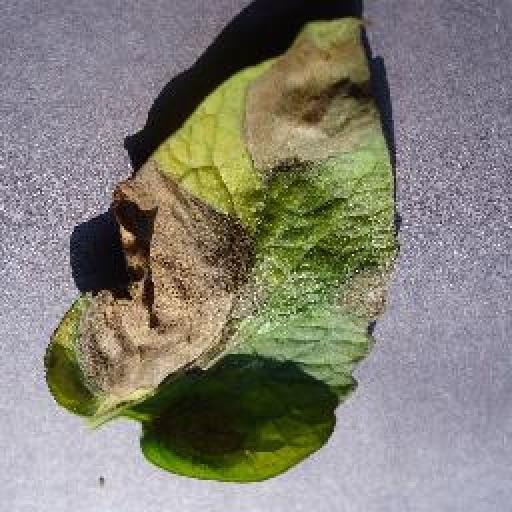disease_tomato: (42, 15, 402, 485)
